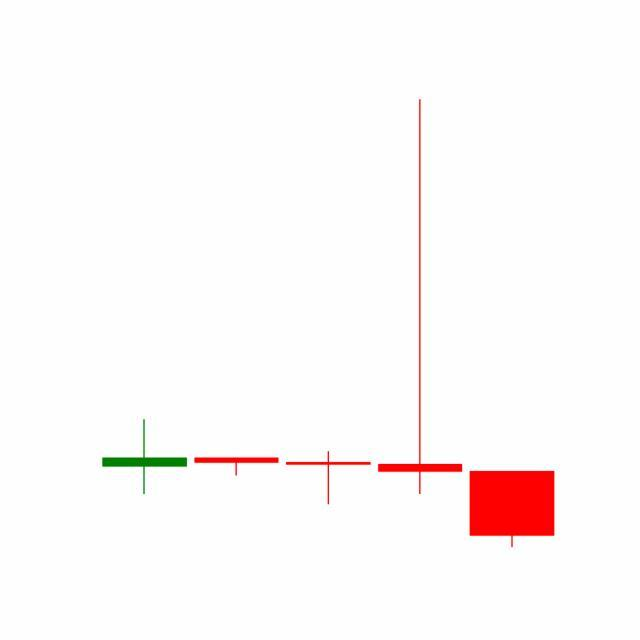Spinning Top: (374, 95, 468, 499)
